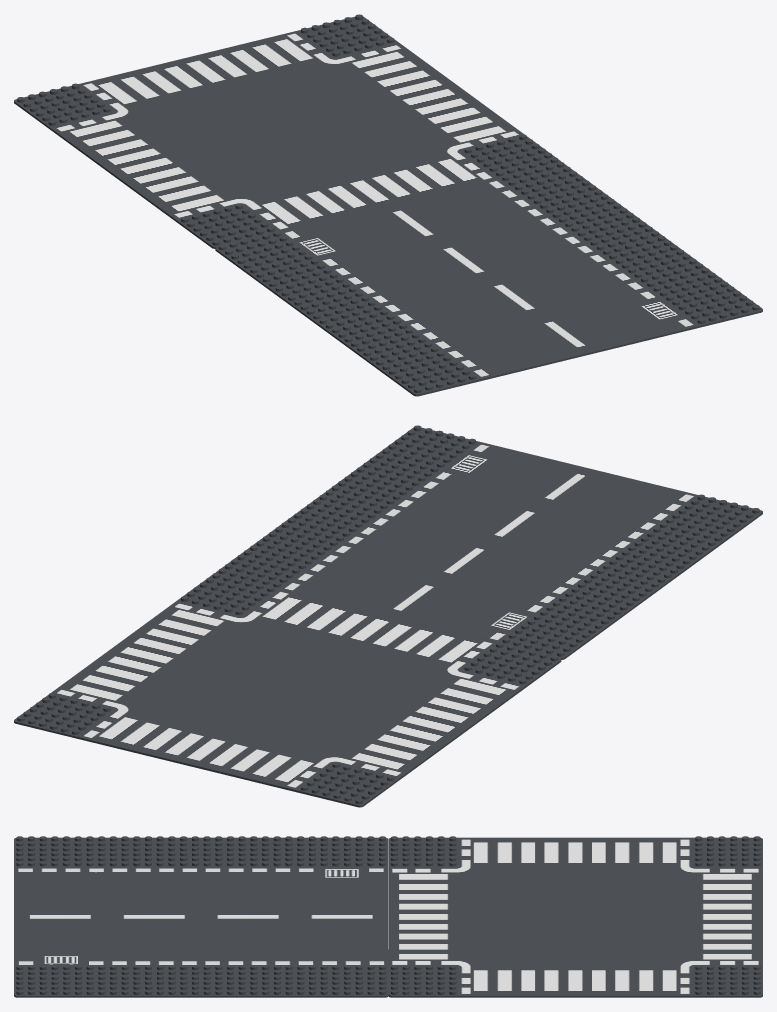
The model's file is Straight _ Crossroad Plates.obj.
3 renders of one model, top to bottom at view 1: azimuth 30°, elevation 25°; view 2: azimuth 150°, elevation 25°; view 3: azimuth 270°, elevation 25°, orthographic. The views are drawn at different scales.
Parts seen in each view (by area): view 1: Part.2, Part.1; view 2: Part.1, Part.2; view 3: Part.2, Part.1.
Boxes of the visible parts, left/top/right/bottom form: Part.2: left=215, top=162, right=762, bottom=396; Part.1: left=14, top=14, right=561, bottom=248; Part.1: left=14, top=573, right=561, bottom=807; Part.2: left=215, top=425, right=762, bottom=659; Part.2: left=14, top=836, right=388, bottom=997; Part.1: left=388, top=836, right=762, bottom=997.
Bounding box in the file's own units: 256 × 3.18 × 512.
